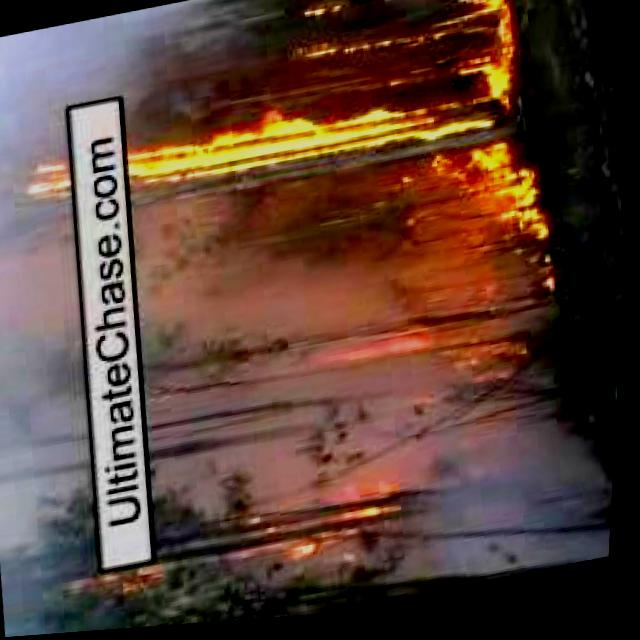helmet: (122, 85, 515, 193), (422, 138, 552, 279), (443, 0, 511, 43)
no_helmet: (133, 268, 408, 544), (0, 22, 124, 573), (413, 414, 622, 599)
